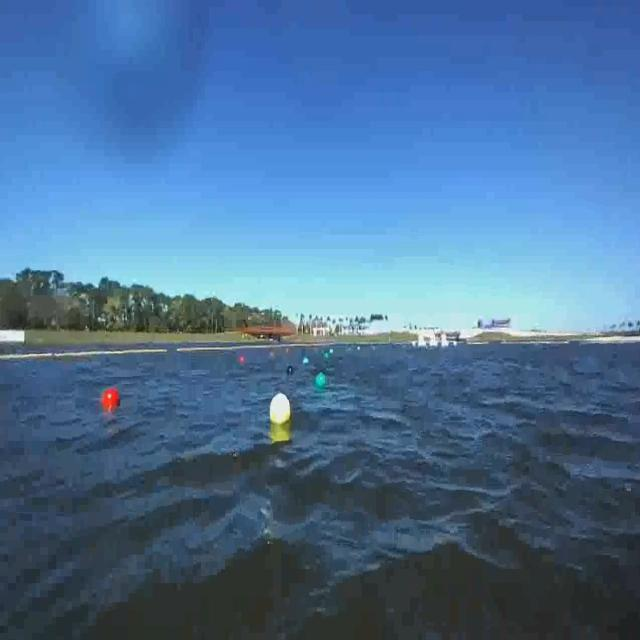black-buoy: (287, 364, 293, 374)
green-buoy: (315, 373, 327, 391)
red-buoy: (105, 386, 124, 408)
yellow-buoy: (270, 394, 292, 428)
